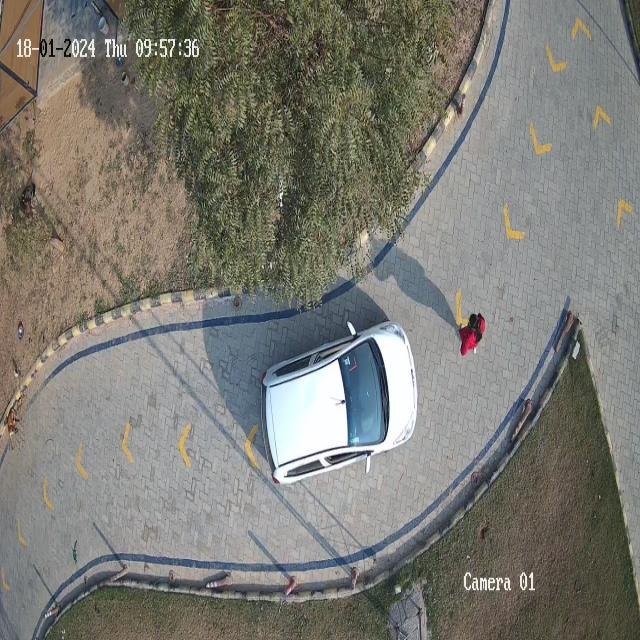car: (261, 322, 418, 484)
